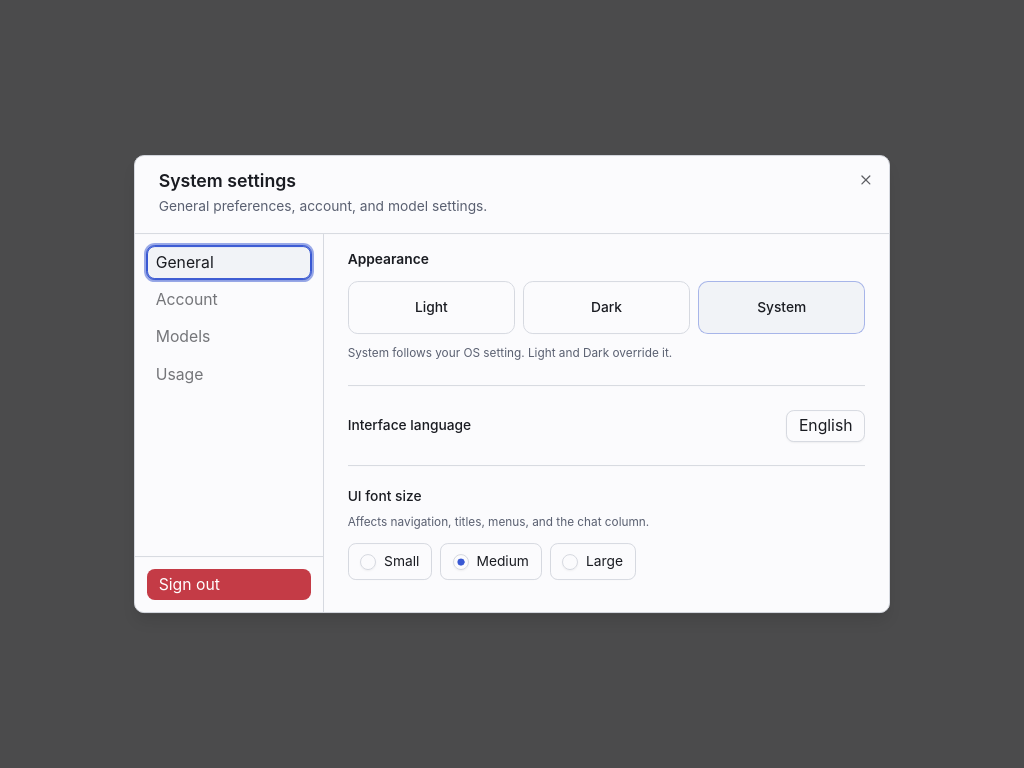
Test case: SettingsPage › puts profile fields under account and API key + favorites under models
This screenshot has width=1024, height=768.
Click the tab "Account" at (229, 300), box [147,283,311,317]
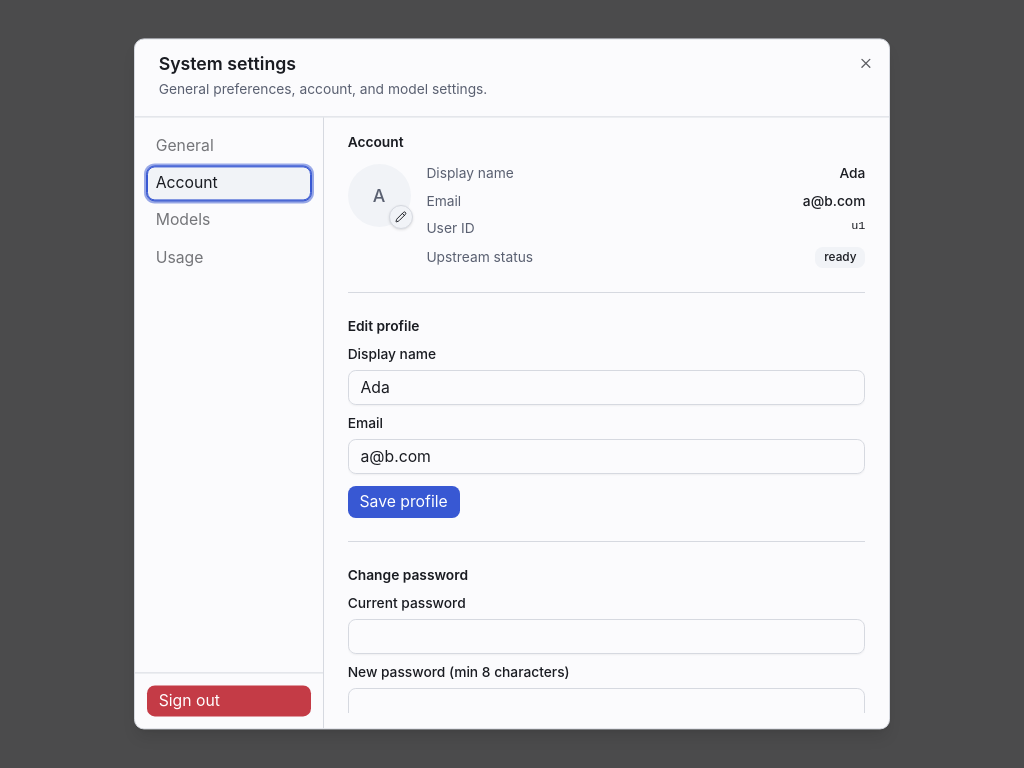
Result: the text "a@b.com" is shown at [803,192,865,212]
Result: the field labelled "Display name" is shown at [348,370,865,406]
Result: the field labelled "Email" is shown at [348,439,865,475]
Click the button named "edit avatar" at (401, 218), box [389,206,413,229]
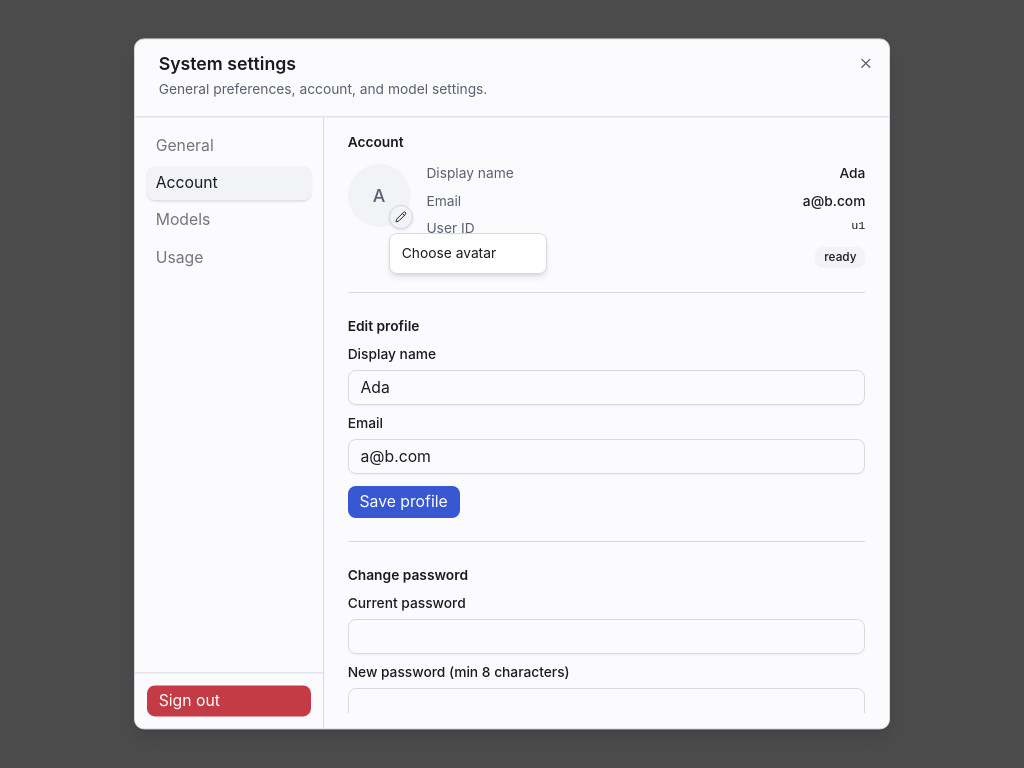
Result: the menu item "Choose avatar" is shown at [402,245,496,261]
Press Escape
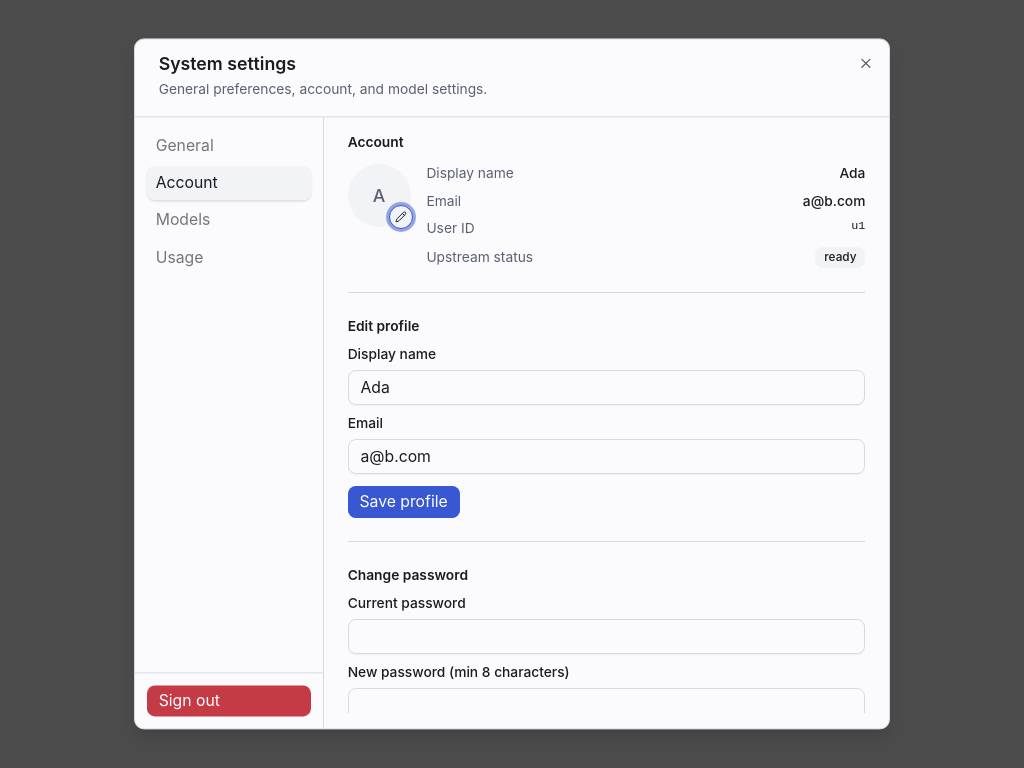
Click the tab "Models" at (229, 221), box [147,204,311,237]
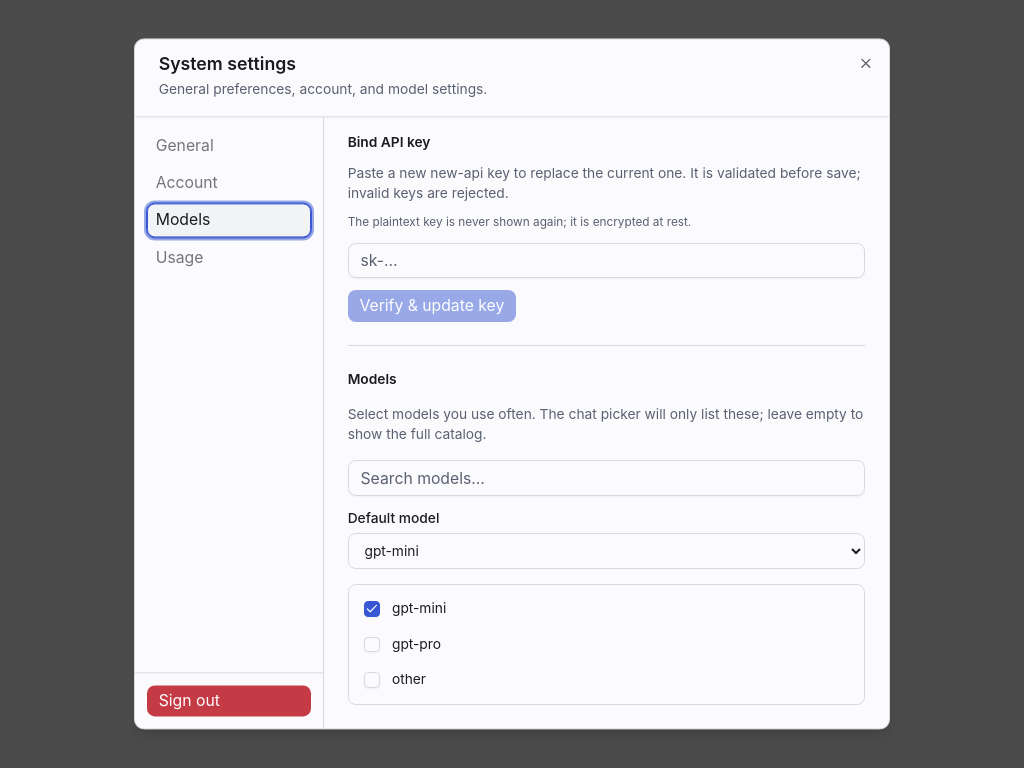
Result: the heading "Bind API key" is shown at [348,134,430,150]
Result: the text "gpt-pro" is shown at [392,636,441,652]
Click the tab "Usage" at (229, 258), box [147,241,311,275]
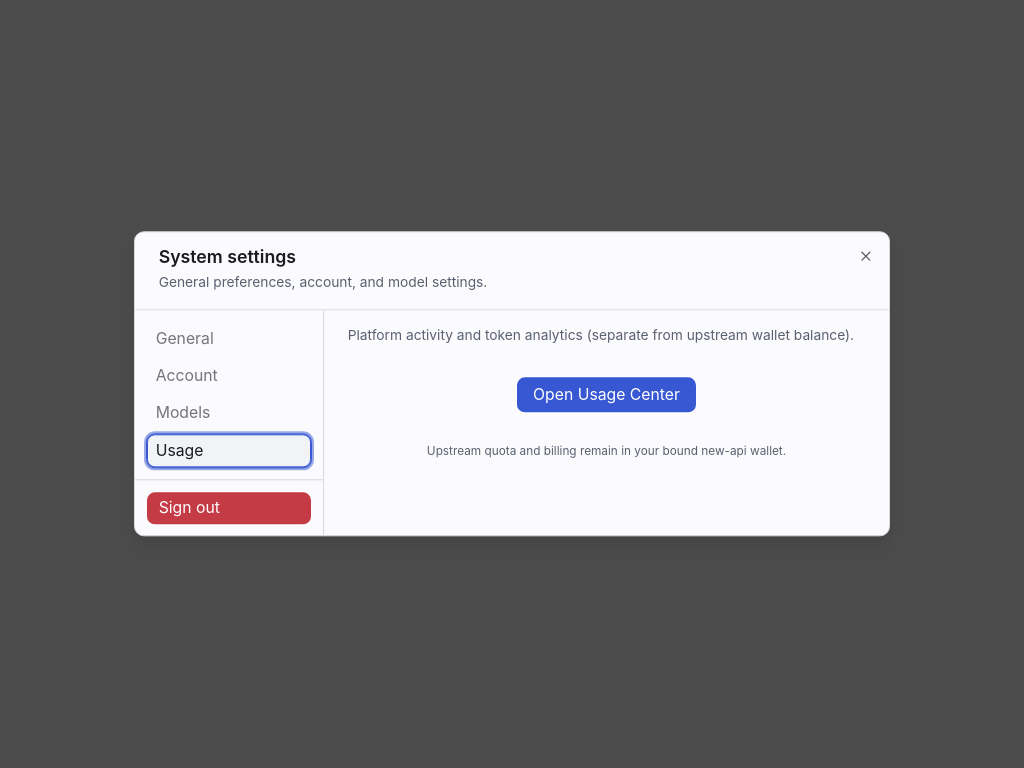
Result: the button "Open Usage Center" is shown at [517,377,696,412]
